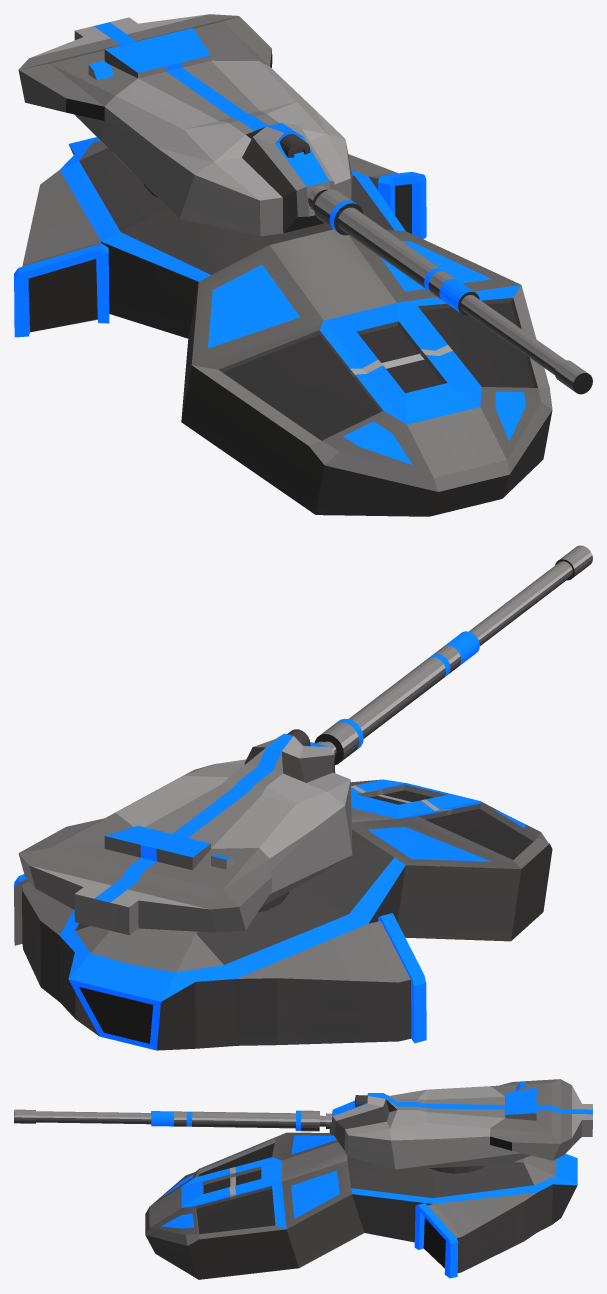
Rendered from tank@idle.fbx.
The picture shows the model from 3 angles, top to bottom: view 1: azimuth 30°, elevation 25°; view 2: azimuth 150°, elevation 25°; view 3: azimuth 270°, elevation 25°; orthographic projection. The views are drawn at different scales.
Parts seen in each view (by area): view 1: Top, Bottom; view 2: Top, Bottom; view 3: Top, Bottom.
Part boxes in pixels (x1,y1,x2,y2): Top: [14, 137, 552, 516]; Bottom: [18, 14, 592, 394]; Top: [14, 779, 552, 1050]; Bottom: [18, 545, 592, 935]; Top: [145, 1132, 577, 1279]; Bottom: [14, 1079, 592, 1173].
Bounding box in the file's own units: 379 × 222 × 766.
